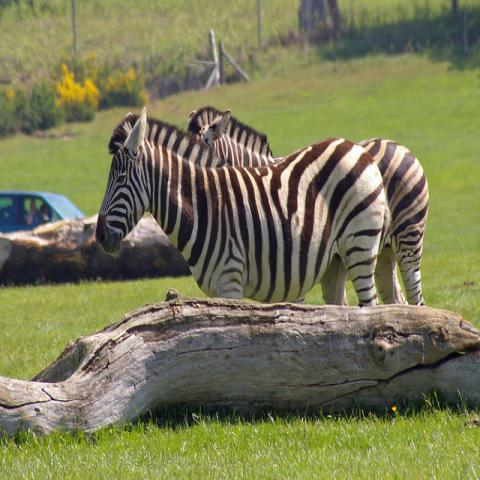car: (0, 190, 87, 234)
